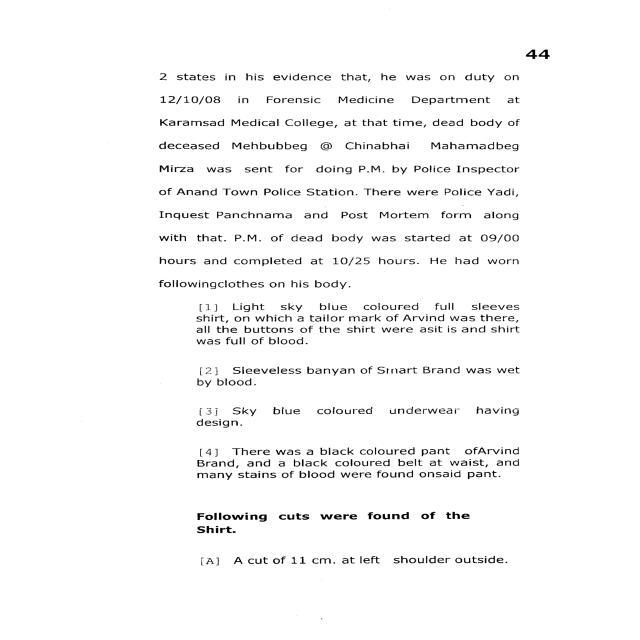page-number: (430, 1, 640, 70)
